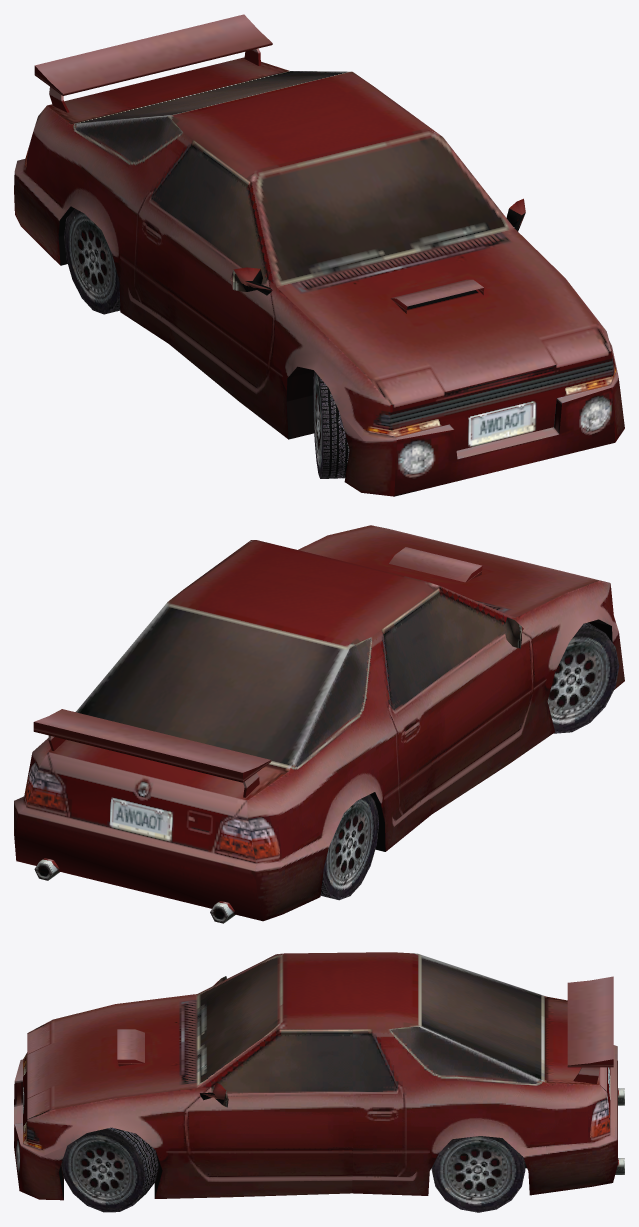
Rendered from modern_rice.fbx.
The picture shows the model from 3 angles, top to bottom: view 1: azimuth 30°, elevation 25°; view 2: azimuth 150°, elevation 25°; view 3: azimuth 270°, elevation 25°; orthographic projection. The views are drawn at different scales.
Parts seen in each view (by area): view 1: mesh_0; view 2: mesh_0; view 3: mesh_0.
Part boxes in pixels (x1,y1,x2,y2): mesh_0: (14, 14, 624, 496); mesh_0: (14, 525, 624, 923); mesh_0: (14, 952, 624, 1212).
Bounding box in the file's own units: 203 × 142 × 446.
1 material, 1 textured.
